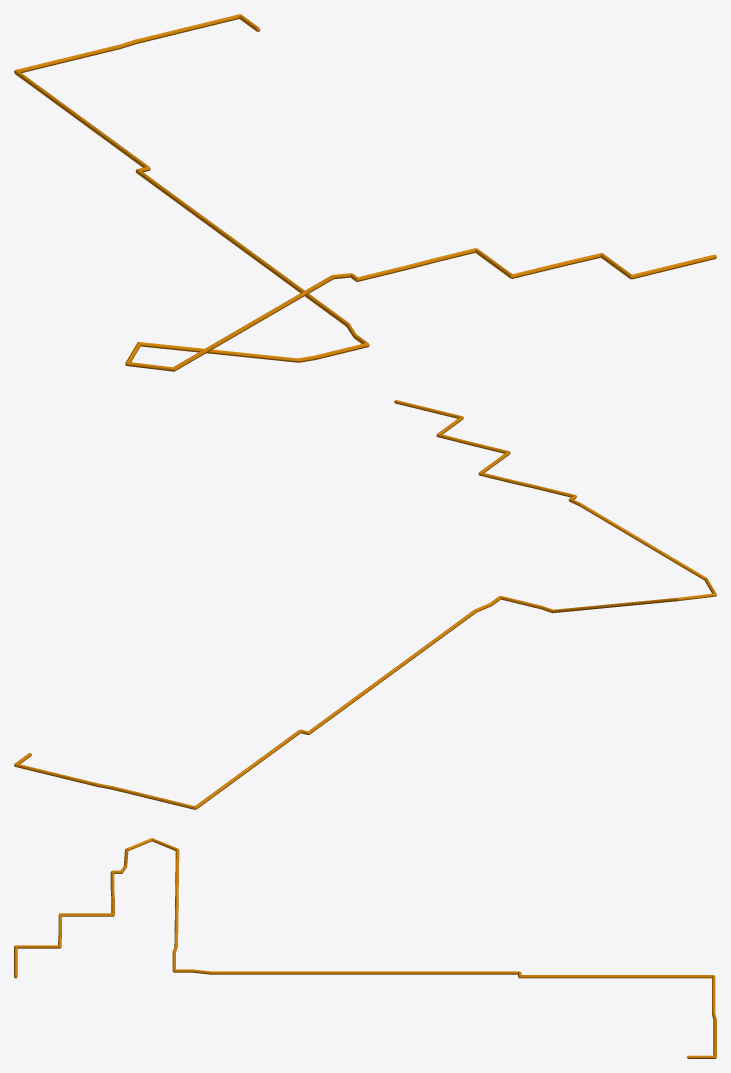
The picture shows the model from 3 angles, top to bottom: view 1: azimuth 30°, elevation 25°; view 2: azimuth 150°, elevation 25°; view 3: azimuth 270°, elevation 25°; orthographic projection. The views are drawn at different scales.
Size of the model in its own units: 2406 by 520 by 3989.
